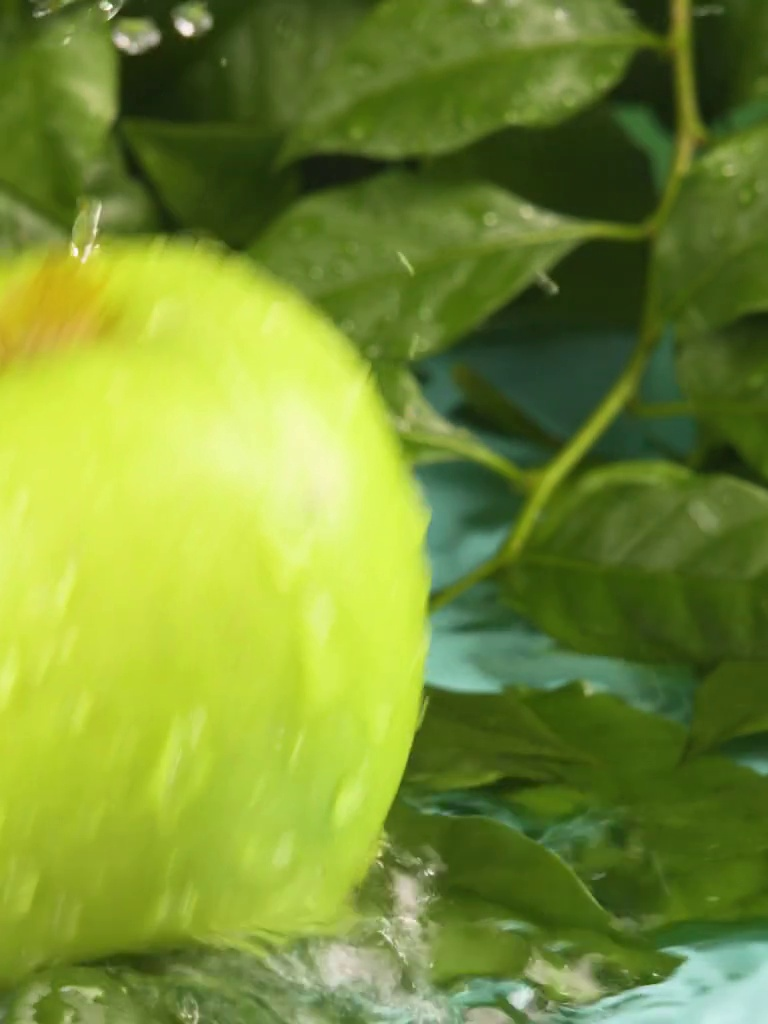Apple: (1, 206, 432, 973)
